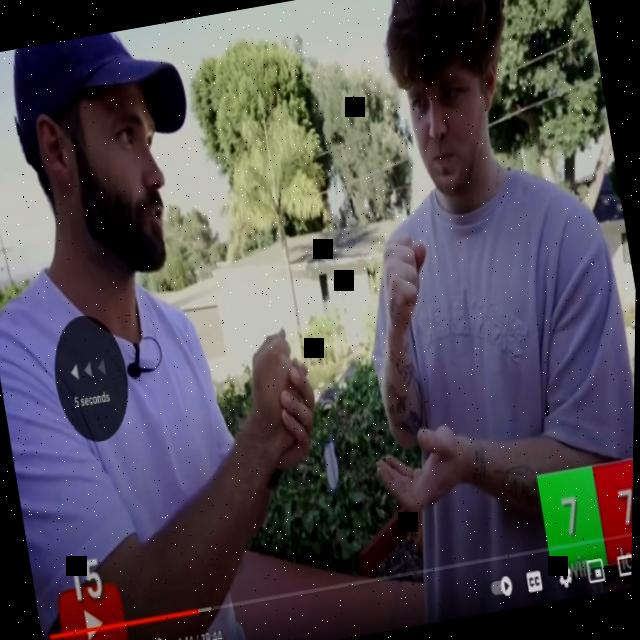Rock: (244, 324, 310, 456), (375, 229, 439, 332)
